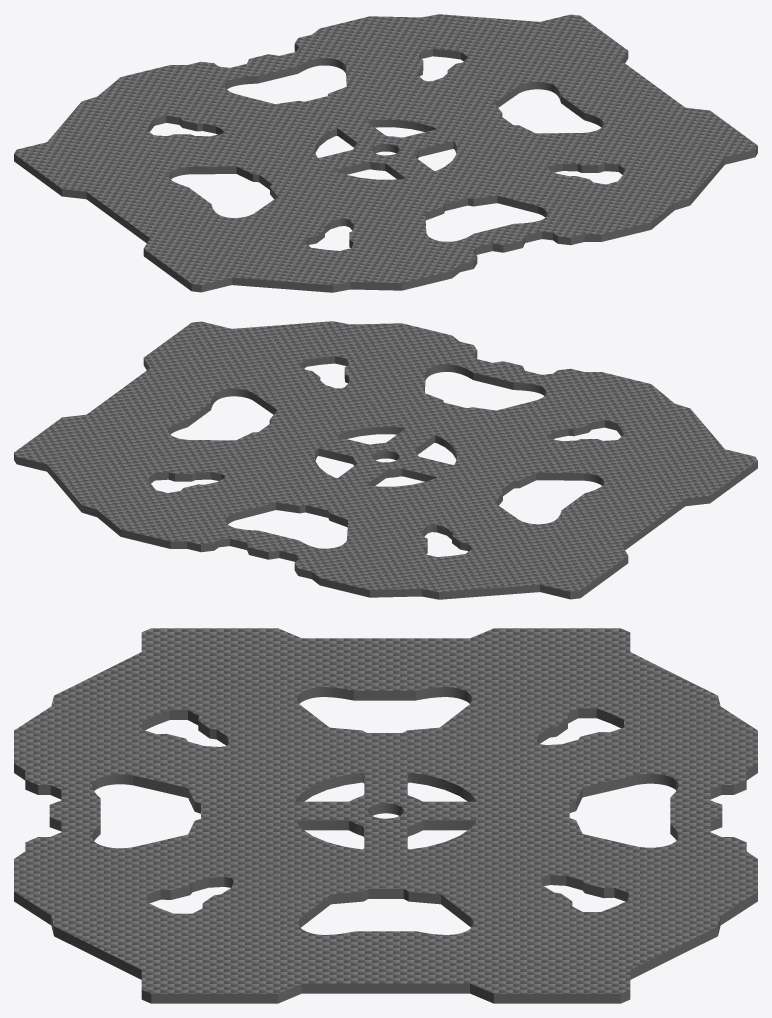
Rendered from tarot_t650_bottom_board.dae.
3 views of the same model, one above another, from view 1: azimuth 30°, elevation 25°; view 2: azimuth 150°, elevation 25°; view 3: azimuth 270°, elevation 25° (orthographic). The views are drawn at different scales.
Visible parts, largest first — view 1: Line015; view 2: Line015; view 3: Line015.
Boxes of the visible parts, <box> form: Line015: <box>14,14,757,292</box>; Line015: <box>14,321,757,599</box>; Line015: <box>14,628,757,1003</box>.
Size of the model in its own units: 194 by 167 by 2.48.
Materials: 2 (2 with a texture image).
